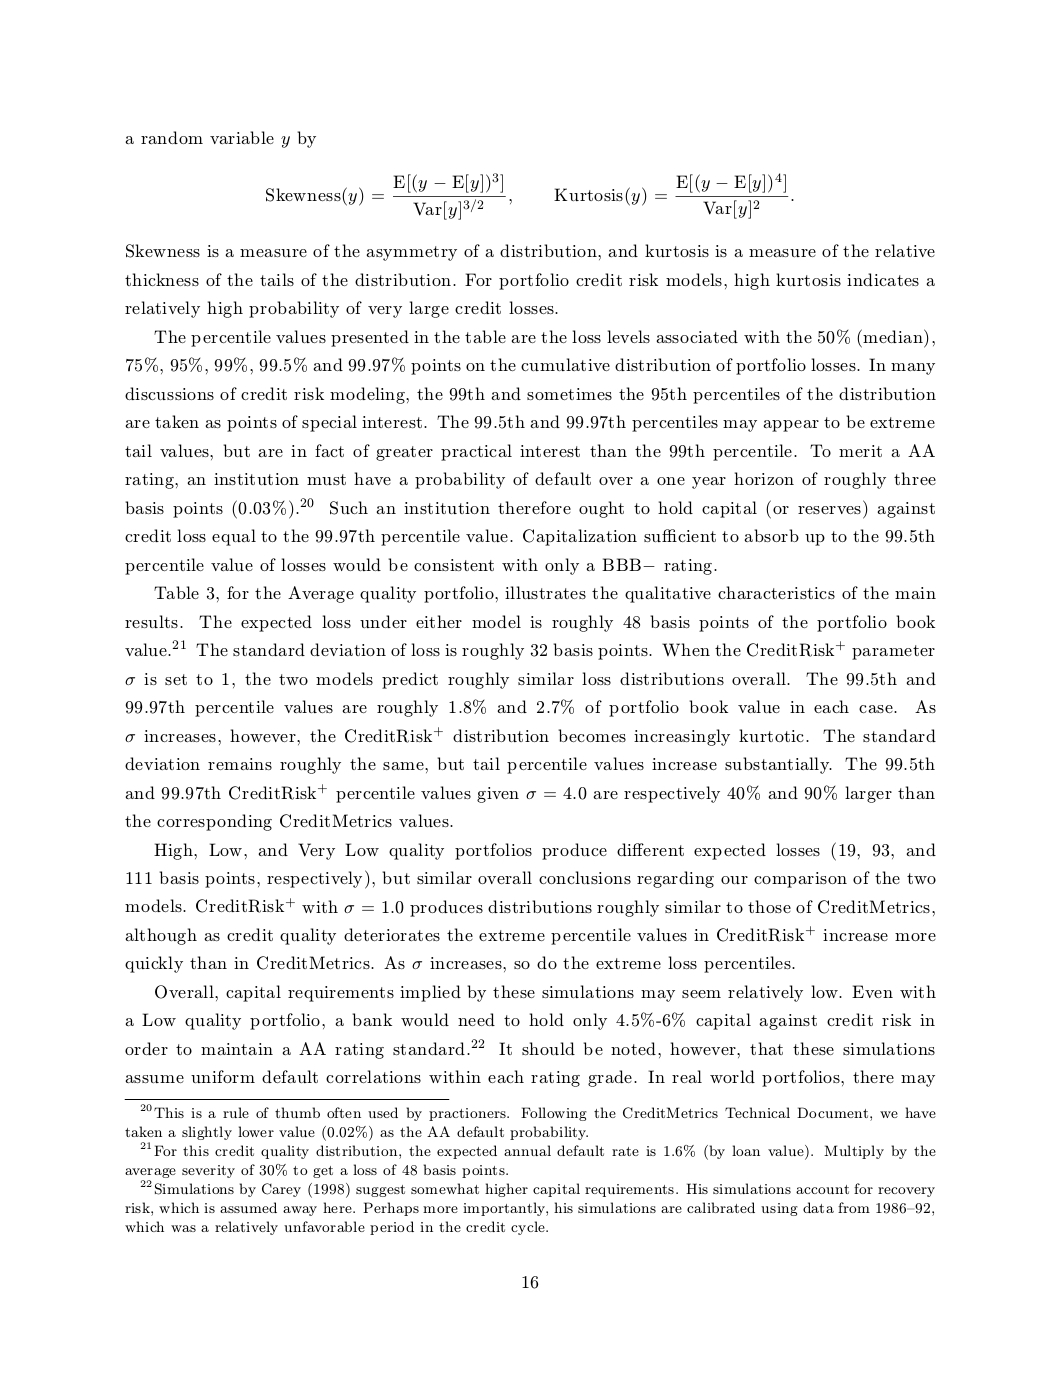formula: (266, 172, 794, 220)
